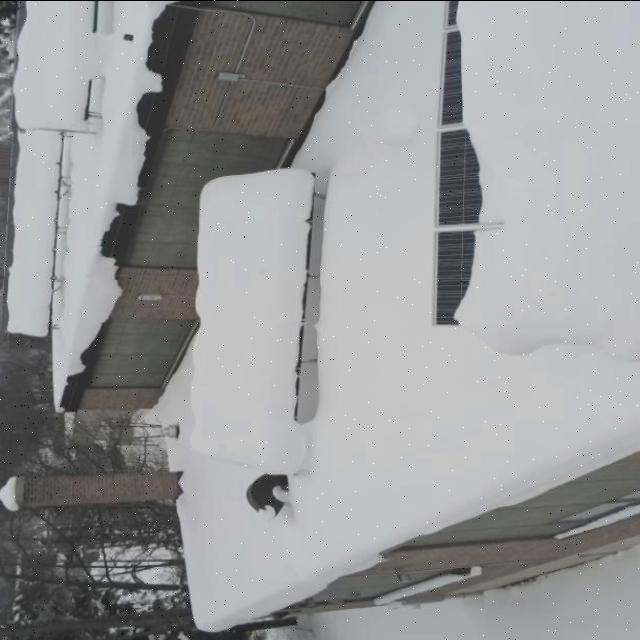Anomaly Solar Panel: (186, 166, 314, 472), (1, 128, 63, 336), (9, 0, 95, 130)
Snow: (447, 0, 640, 325), (189, 166, 314, 473), (6, 127, 62, 335), (9, 0, 95, 130)
